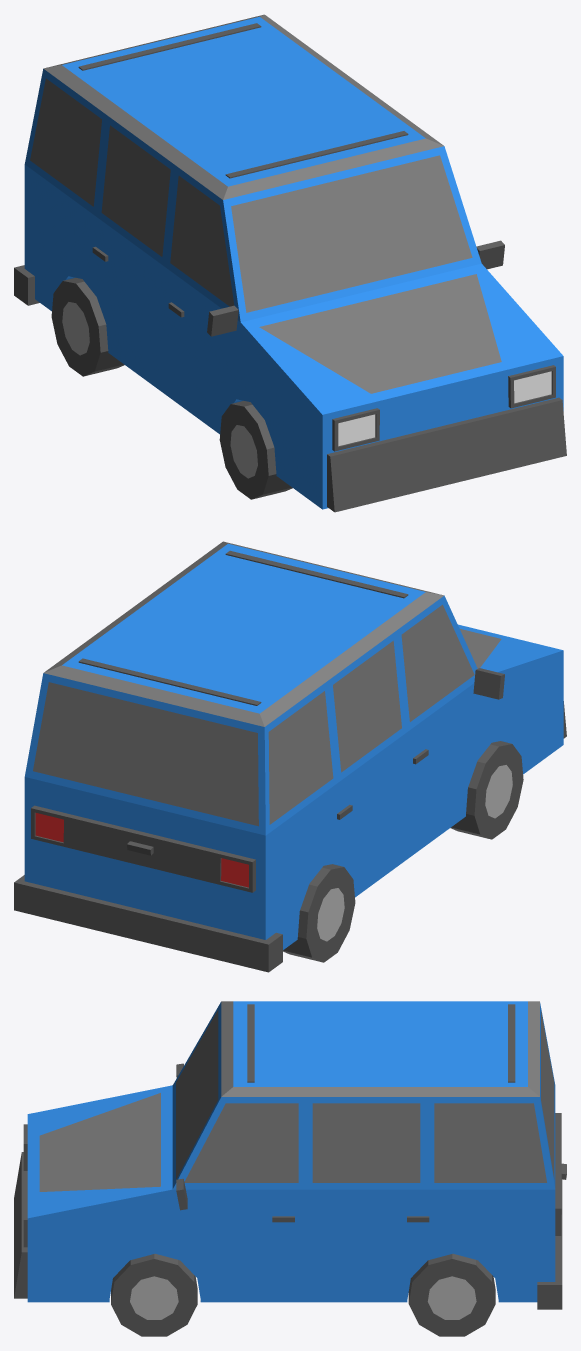
The model's file is SM_Car_08_02.FBX.
3 renders of one model, top to bottom at view 1: azimuth 30°, elevation 25°; view 2: azimuth 150°, elevation 25°; view 3: azimuth 270°, elevation 25°, orthographic. The views are drawn at different scales.
Visible parts, largest first — view 1: SM_Car_08_02, SM_Wheel_RBack001, SM_Wheel_LFront002; view 2: SM_Car_08_02, SM_Wheel_LFront002, SM_Wheel_RBack001; view 3: SM_Car_08_02, SM_Wheel_LBack001, SM_Wheel_LFront001.
Part boxes in pixels (x1,y1,x2,y2): SM_Car_08_02: (14,14,566,512); SM_Wheel_RBack001: (51,277,124,376); SM_Wheel_LFront002: (219,401,292,499); SM_Car_08_02: (14,541,566,972); SM_Wheel_LFront002: (450,741,523,839); SM_Wheel_RBack001: (283,864,355,962); SM_Car_08_02: (14,1001,566,1309); SM_Wheel_LBack001: (408,1253,495,1336); SM_Wheel_LFront001: (111,1253,197,1336).
Bounding box in the file's own units: 1.7 × 1.5 × 3.15.
Materials: 1 (1 with a texture image).
